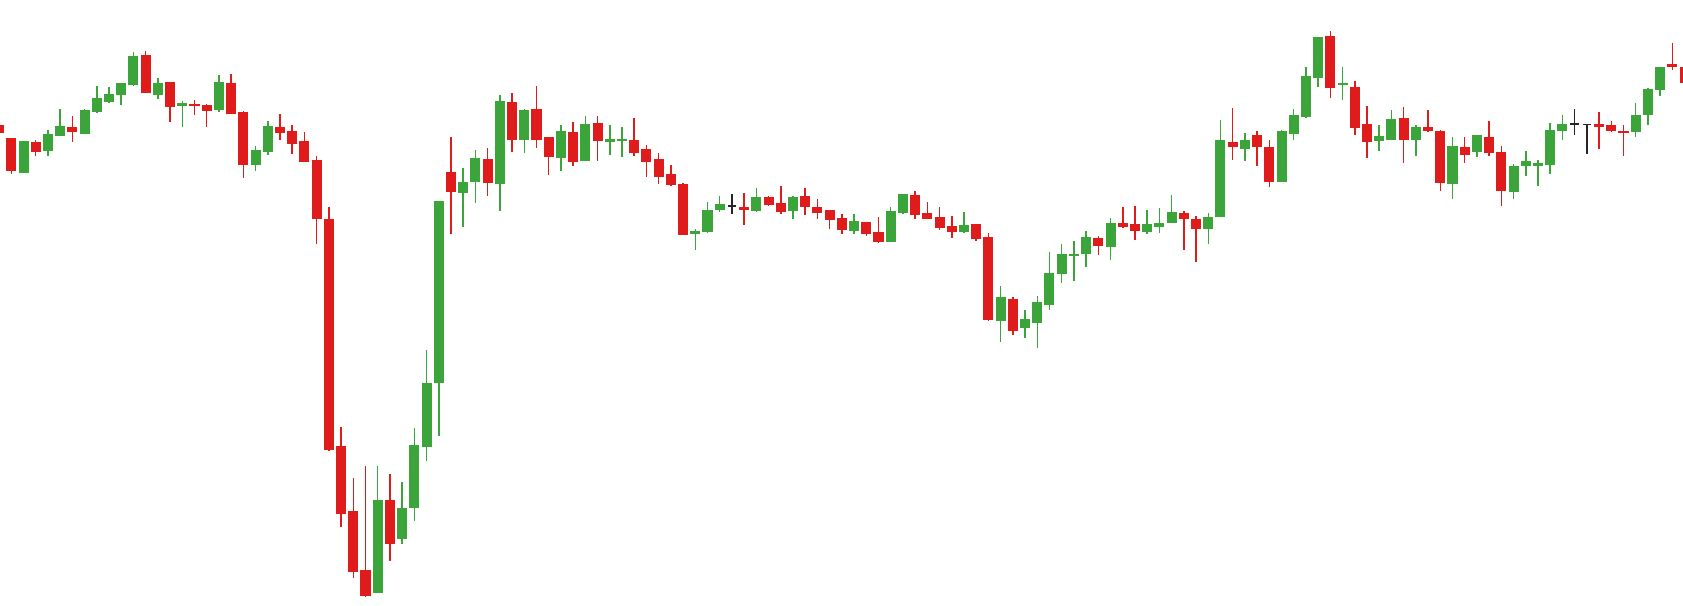buy: (1432, 139, 1521, 217)
